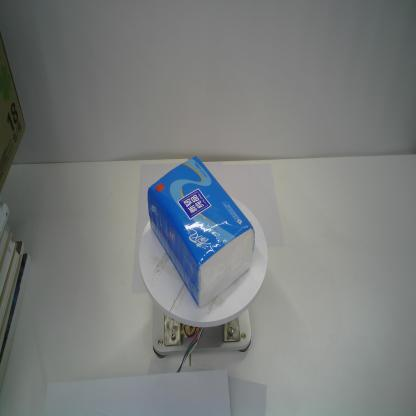Tissue: (147, 155, 255, 308)
